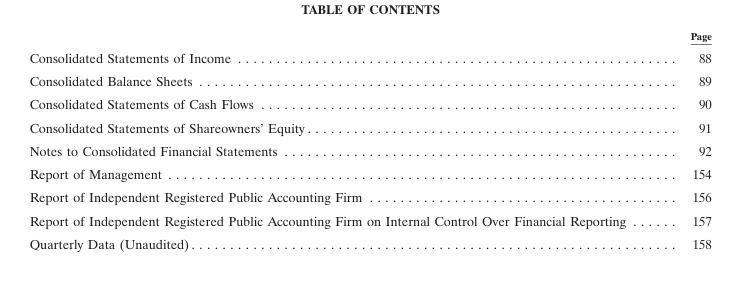table: (28, 28, 710, 251)
table column: (28, 28, 657, 251), (657, 28, 710, 251)
table column header: (28, 28, 710, 45)
table row: (28, 68, 710, 92), (28, 161, 710, 185), (28, 45, 710, 68), (28, 92, 710, 115), (28, 115, 710, 138), (28, 138, 710, 161), (28, 185, 710, 208), (28, 208, 710, 231), (28, 231, 710, 251), (28, 28, 710, 45)
